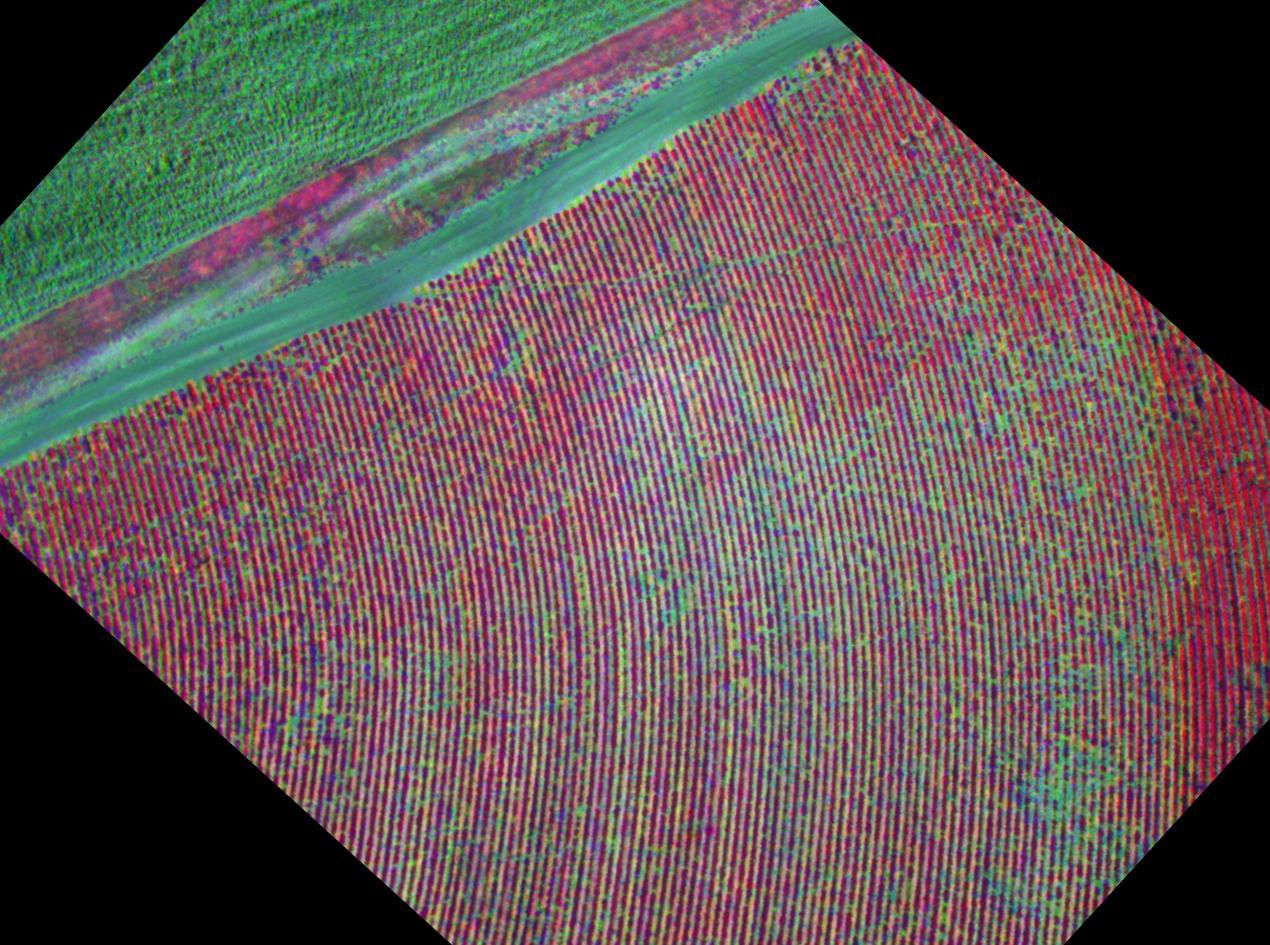dc: (288, 719, 294, 725), (1078, 489, 1084, 494), (744, 679, 749, 684), (316, 700, 321, 705), (553, 266, 558, 270), (1000, 420, 1005, 424), (949, 576, 954, 580), (790, 251, 794, 255), (865, 641, 869, 645)
